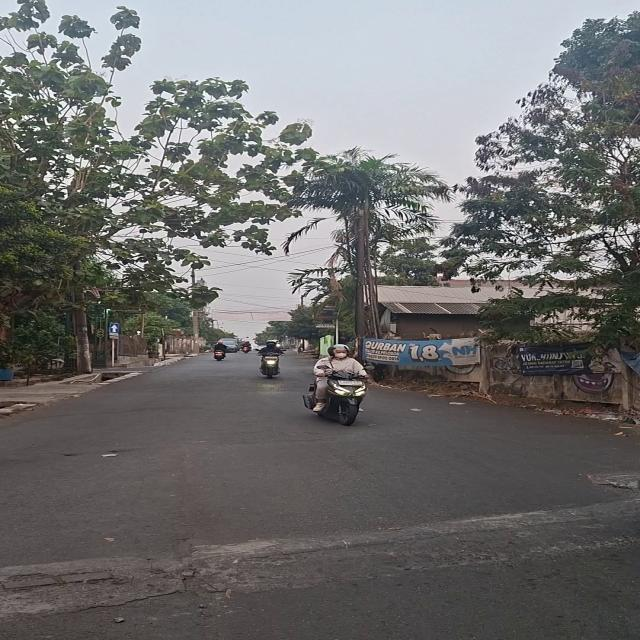WithHelmet: (309, 344, 371, 412), (255, 340, 287, 375), (212, 340, 229, 357), (241, 341, 253, 351)
